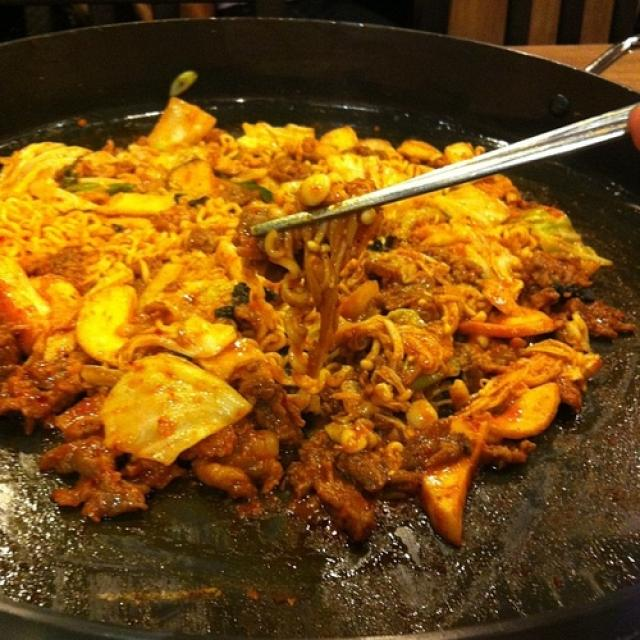鸡肉料理 含炸鸡: (9, 15, 626, 616)
